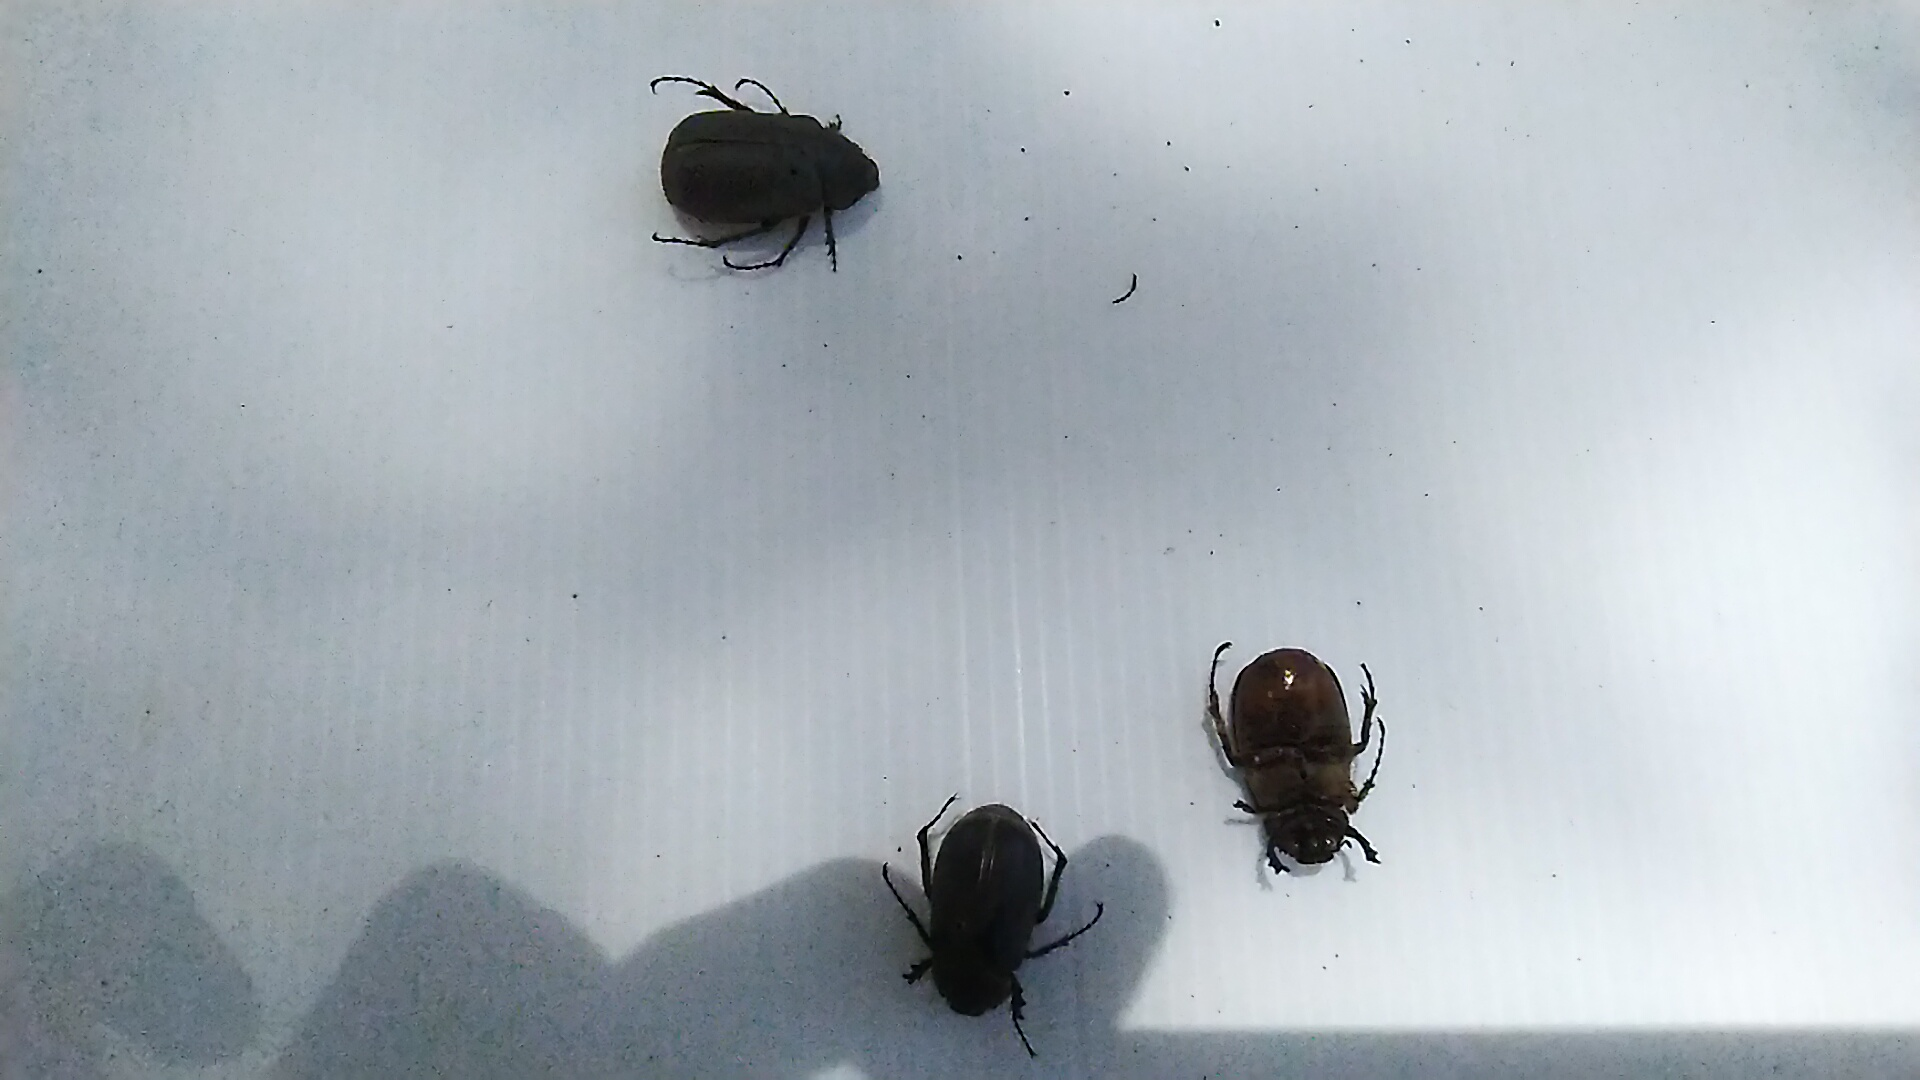INS-A: (874, 785, 1114, 1065), (629, 63, 899, 293), (1193, 611, 1396, 884)
